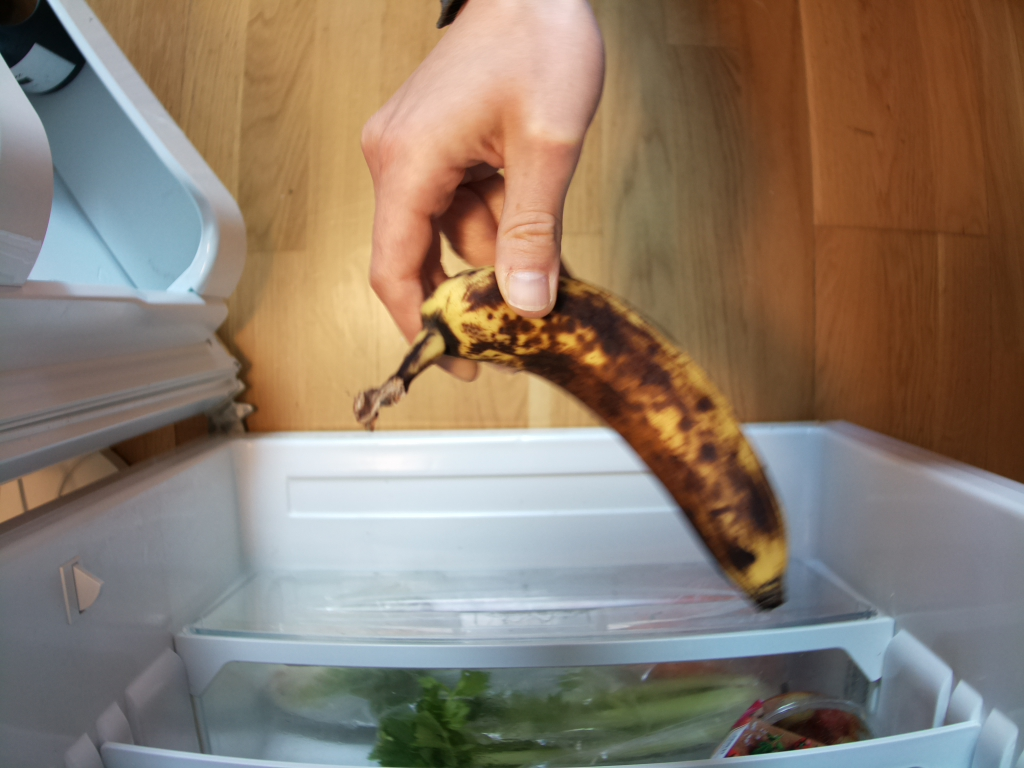banana-overripe: (366, 261, 791, 614)
